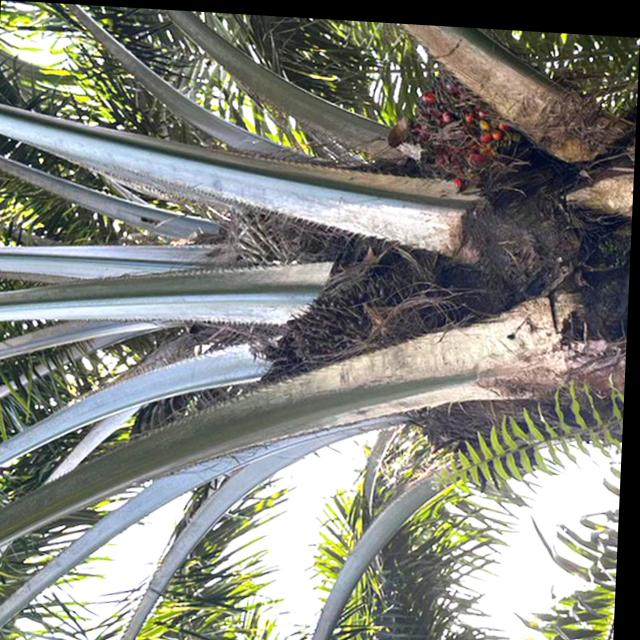almost: (260, 246, 449, 395), (387, 62, 541, 194)
